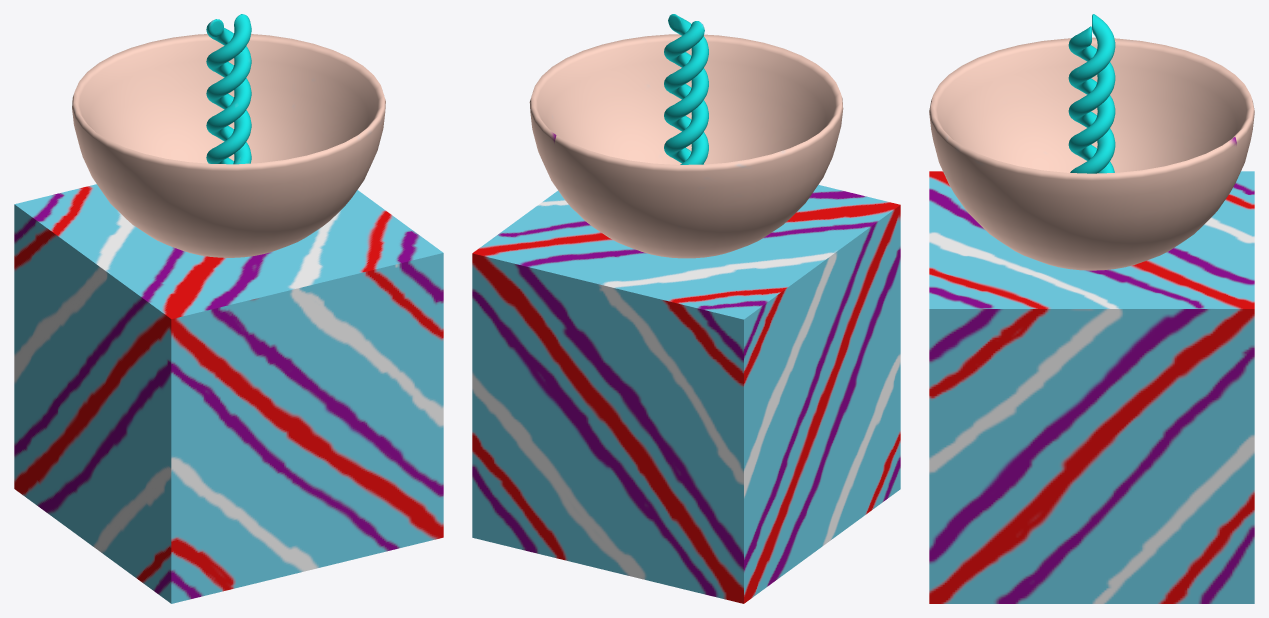
3 renders of one model, left to right at view 1: azimuth 30°, elevation 25°; view 2: azimuth 150°, elevation 25°; view 3: azimuth 270°, elevation 25°, orthographic. The views are drawn at different scales.
Visible parts, largest first — view 1: polySurface5; view 2: polySurface5; view 3: polySurface5.
Boxes of the visible parts, x1,y1,x2,y2 form: polySurface5: (14, 14, 443, 603); polySurface5: (472, 14, 900, 603); polySurface5: (929, 14, 1254, 603).
Bounding box in the file's own units: 10.01 × 17.44 × 10.01.
3 materials, 3 textured.
